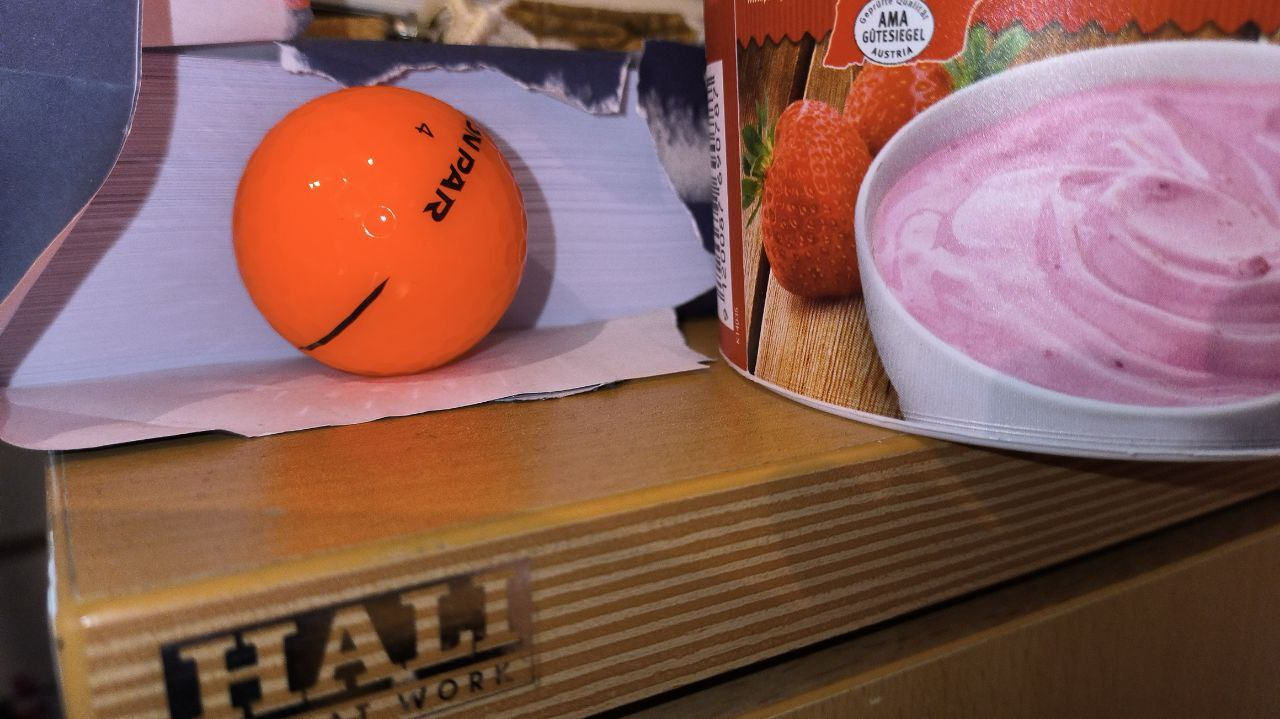orange_ball: (230, 85, 527, 378)
